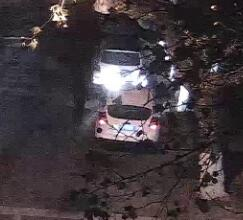car: (94, 87, 162, 148), (90, 34, 147, 94)
